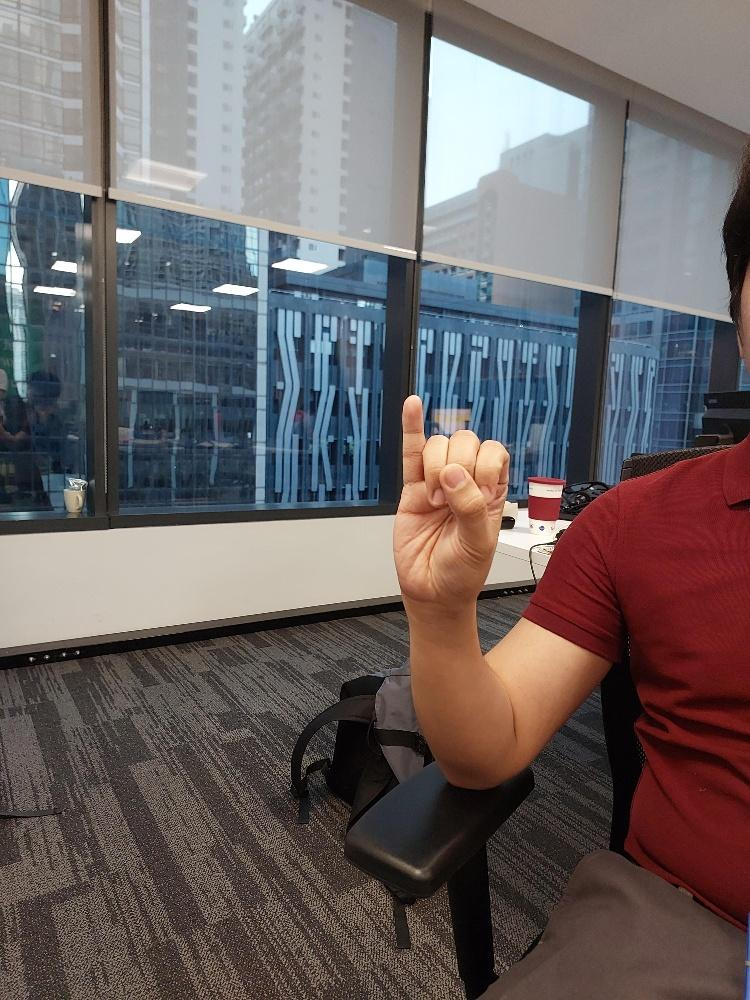i: (388, 391, 513, 615)
